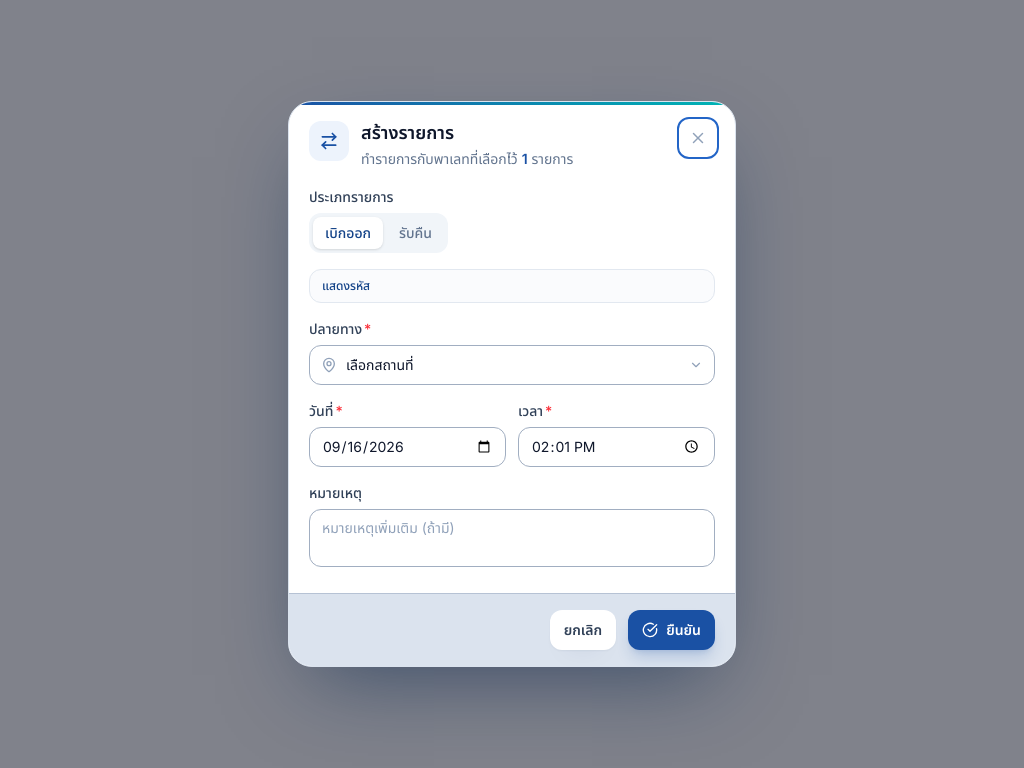
Test: BulkTransactionModal › พิมพ์วันที่ใหม่หลังเจอ error: ข้อความผิดพลาดหายไปทันที
The width and height of the screenshot is (1024, 768).
Click the radio button labelled "รับคืน" at {"x": 416, "y": 233}, box x1=387 y1=217 x2=444 y2=249
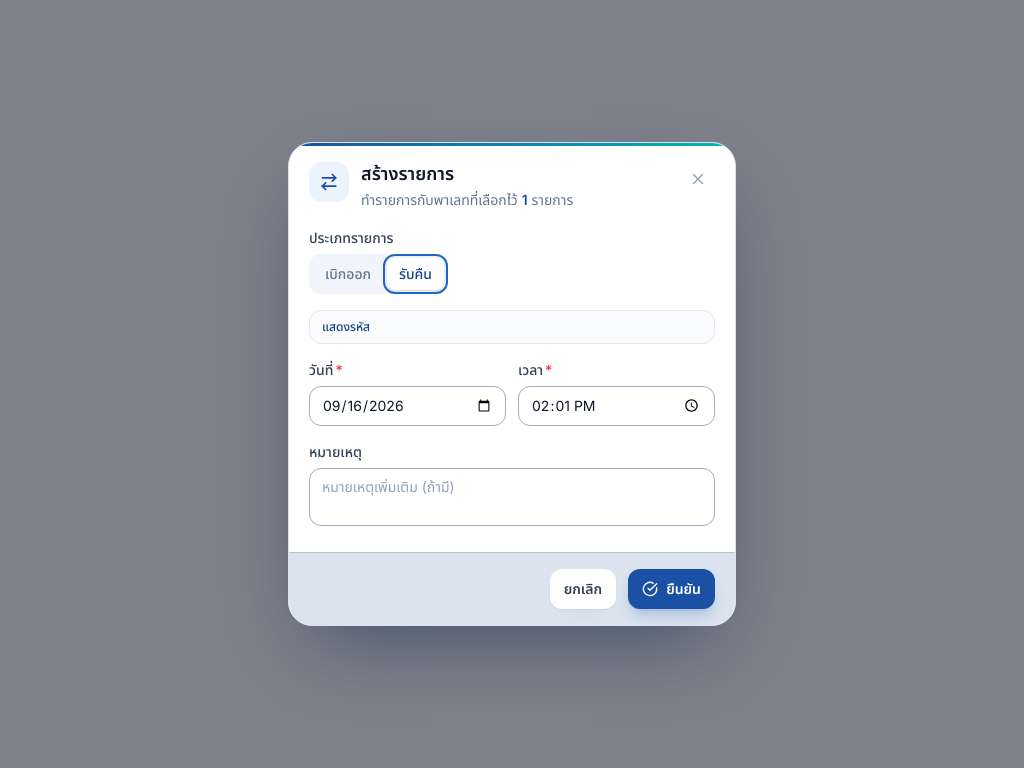
Clear the date field labelled "วันที่" at {"x": 408, "y": 406}, box x1=309 y1=386 x2=506 y2=426
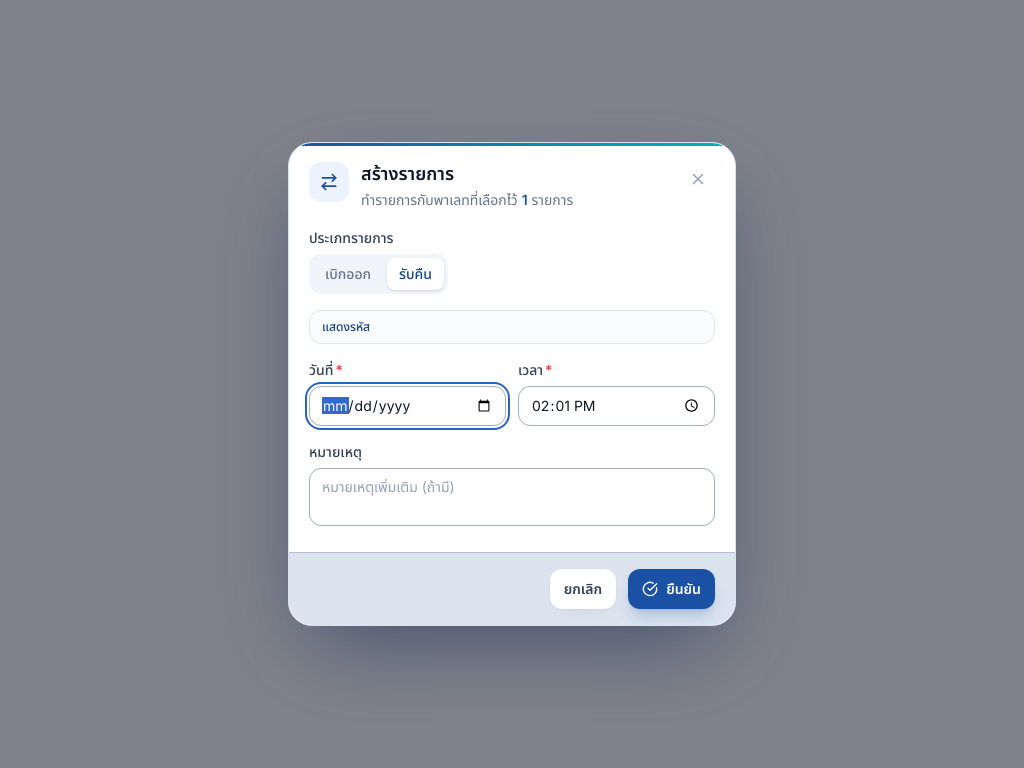
Click the button "ยืนยัน" at {"x": 672, "y": 589}, box x1=628 y1=569 x2=715 y2=609
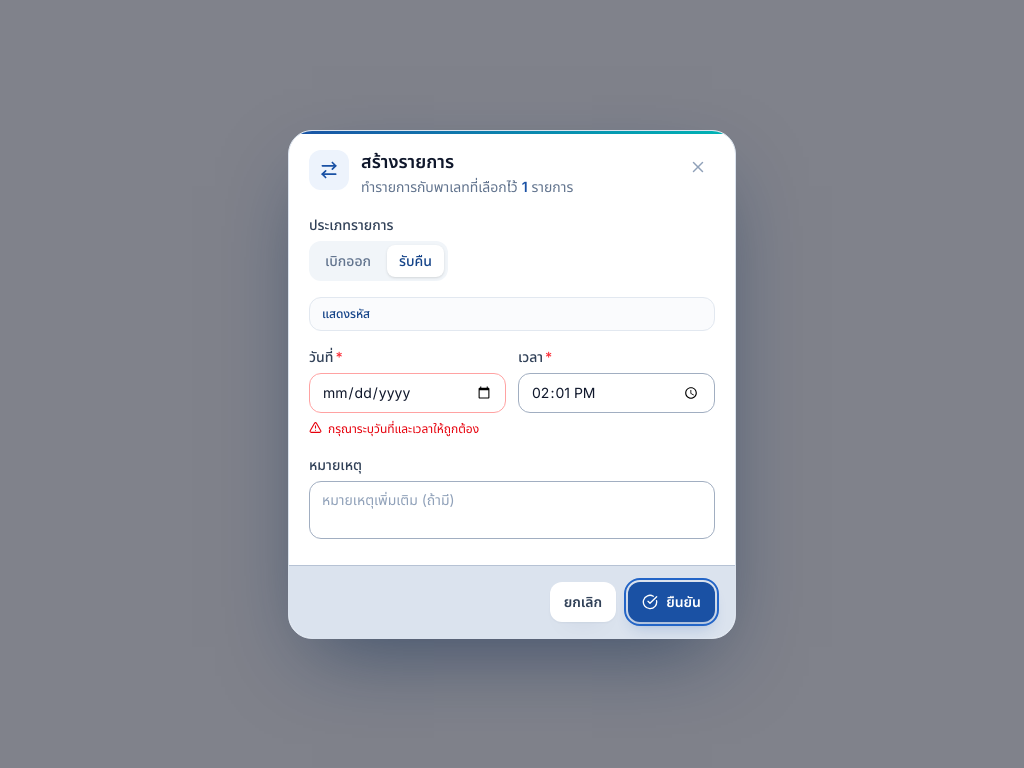
Now the message "กรุณาระบุวันที่และเวลาให้ถูกต้อง" is shown, box x1=309 y1=419 x2=506 y2=438
Type "2026-07-28" into the date field labelled "วันที่" at {"x": 408, "y": 393}, box x1=309 y1=373 x2=506 y2=413
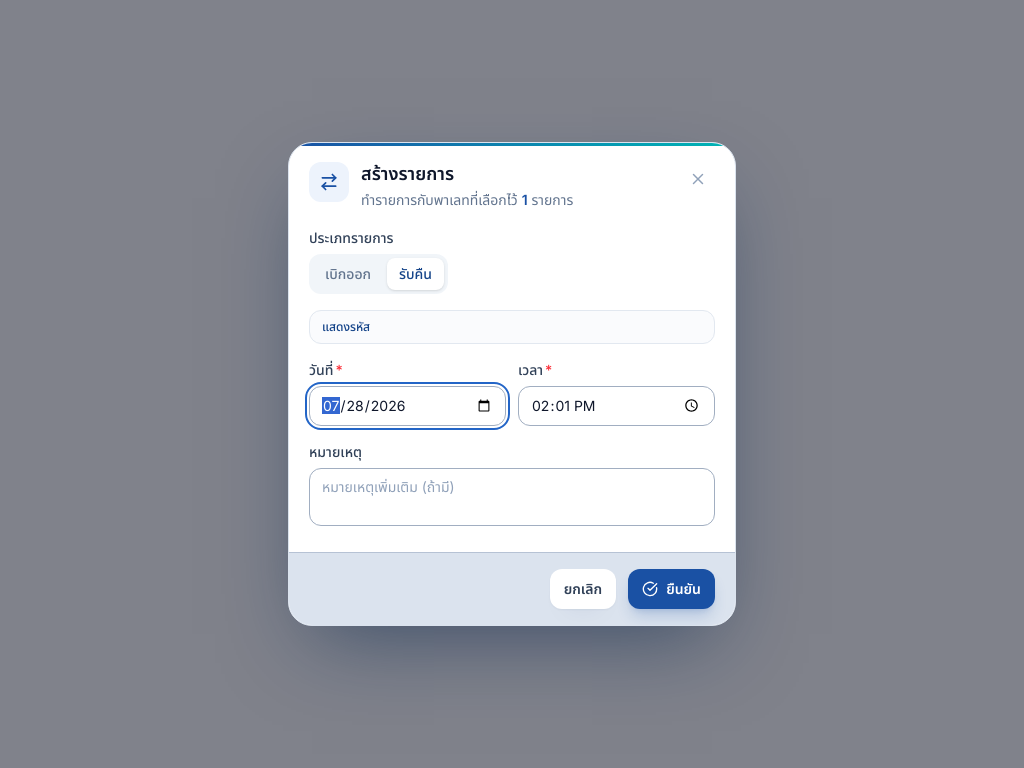
Now the message "กรุณาระบุวันที่และเวลาให้ถูกต้อง" is gone
